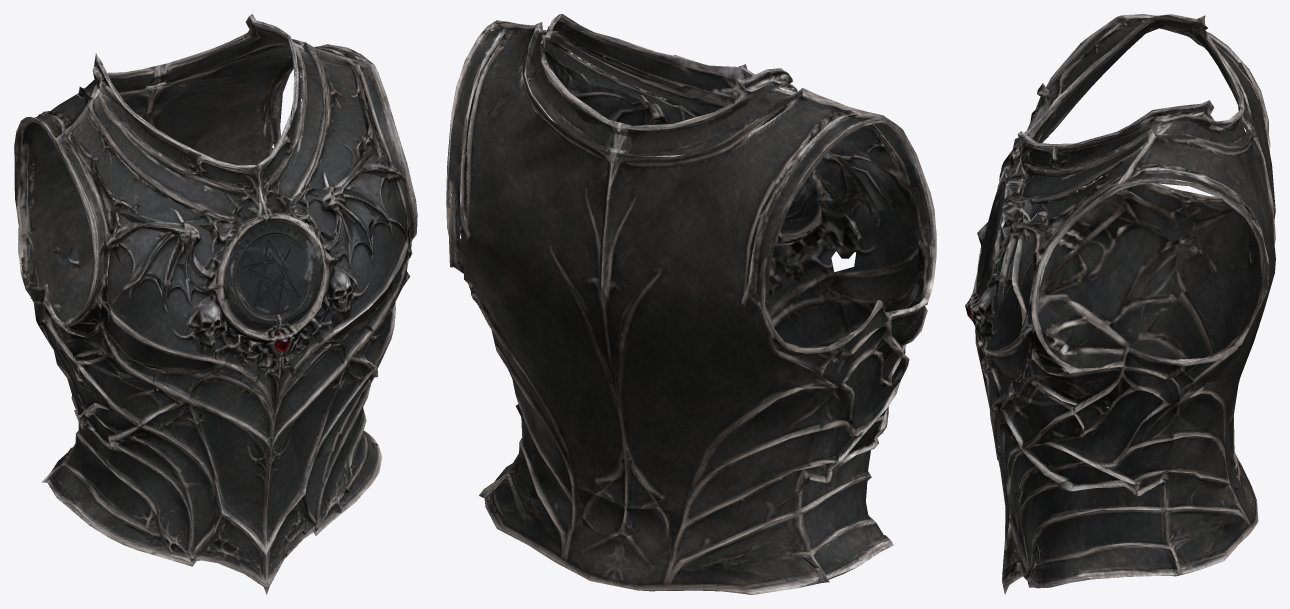
The model's file is vampire_chestplate_v3_lc_LOD0.glb.
3 views of the same model, side by side, from view 1: azimuth 30°, elevation 25°; view 2: azimuth 150°, elevation 25°; view 3: azimuth 270°, elevation 25° (orthographic). The views are drawn at different scales.
Visible parts, largest first — view 1: vampire_chestplate_v3_lc_LOD0; view 2: vampire_chestplate_v3_lc_LOD0; view 3: vampire_chestplate_v3_lc_LOD0.
Boxes of the visible parts, <box> form: vampire_chestplate_v3_lc_LOD0: <box>14,14,417,594</box>; vampire_chestplate_v3_lc_LOD0: <box>446,14,936,594</box>; vampire_chestplate_v3_lc_LOD0: <box>965,14,1275,594</box>.
Bounding box in the file's own units: 0.7251 × 0.981 × 0.5139.
Materials: 1 (1 with a texture image).
